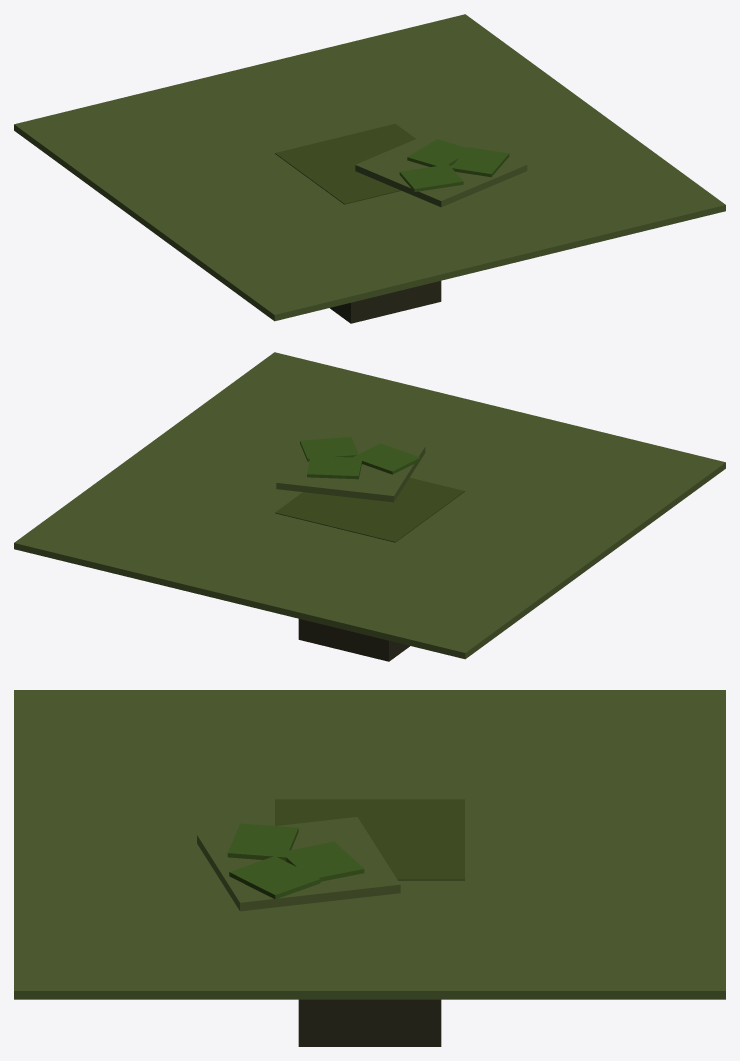
The model's file is tunnel-entrance.glb.
The picture shows the model from 3 angles, top to bottom: view 1: azimuth 30°, elevation 25°; view 2: azimuth 150°, elevation 25°; view 3: azimuth 270°, elevation 25°; orthographic projection. The views are drawn at different scales.
Parts seen in each view (by area): view 1: Mesh_Ground, Mesh_HoleRim, Mesh_Trapdoor, Mesh_TunnelShaft, Mesh_Leaf2, Mesh_Leaf3, Mesh_Leaf1; view 2: Mesh_Ground, Mesh_HoleRim, Mesh_Trapdoor, Mesh_TunnelShaft, Mesh_Leaf1, Mesh_Leaf2, Mesh_Leaf3; view 3: Mesh_Ground, Mesh_HoleRim, Mesh_Trapdoor, Mesh_TunnelShaft, Mesh_Leaf3, Mesh_Leaf2, Mesh_Leaf1.
Part boxes in pixels (x1,y1,x2,y2): Mesh_Ground: (14, 14, 725, 321); Mesh_HoleRim: (275, 123, 415, 204); Mesh_Trapdoor: (355, 128, 527, 207); Mesh_TunnelShaft: (330, 281, 441, 323); Mesh_Leaf2: (399, 164, 463, 191); Mesh_Leaf3: (451, 147, 509, 177); Mesh_Leaf1: (407, 139, 467, 167); Mesh_Ground: (14, 352, 725, 659); Mesh_HoleRim: (275, 477, 464, 542); Mesh_Trapdoor: (276, 433, 425, 502); Mesh_TunnelShaft: (298, 619, 409, 661); Mesh_Leaf1: (307, 456, 362, 479); Mesh_Leaf2: (353, 443, 420, 474); Mesh_Leaf3: (300, 437, 358, 461); Mesh_Ground: (14, 690, 725, 999); Mesh_HoleRim: (275, 799, 464, 880); Mesh_Trapdoor: (197, 817, 400, 911); Mesh_TunnelShaft: (298, 999, 441, 1046); Mesh_Leaf3: (229, 856, 320, 899); Mesh_Leaf2: (227, 823, 298, 861); Mesh_Leaf1: (281, 841, 364, 881).
Size of the model in its own units: 3 by 0.89 by 3.
